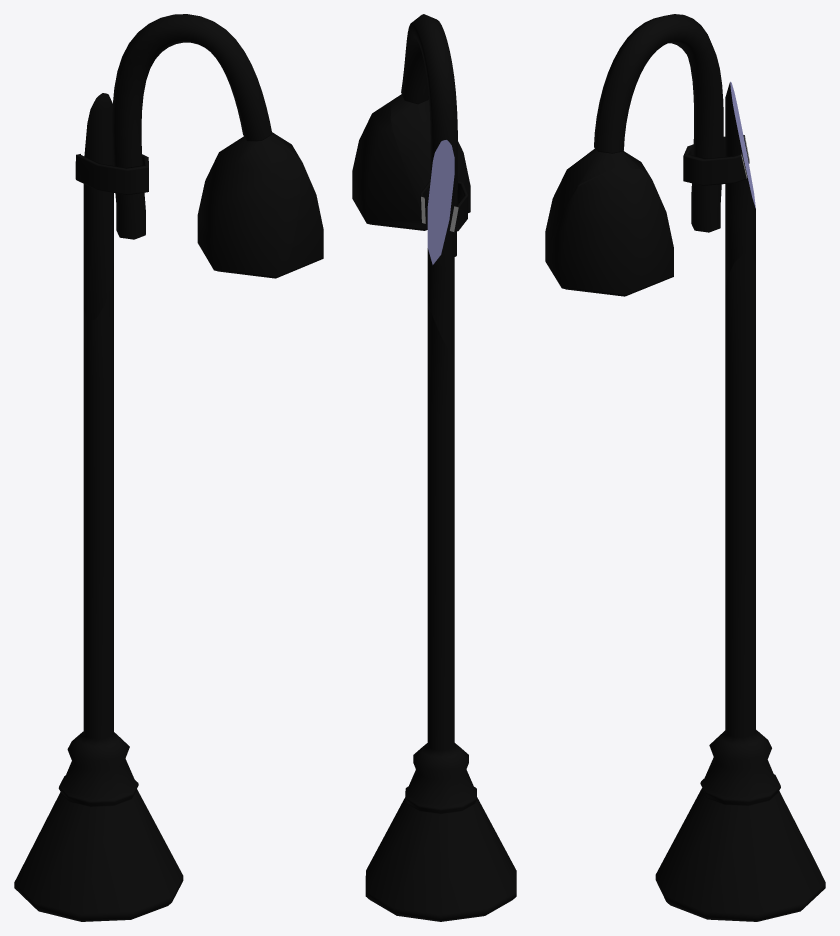
Rendered from LampadaireFract.fbx.
3 views of the same model, side by side, from view 1: azimuth 30°, elevation 25°; view 2: azimuth 150°, elevation 25°; view 3: azimuth 270°, elevation 25° (orthographic). The views are drawn at different scales.
Parts seen in each view (by area): view 1: pCylinder64, pCylinder65, pCylinder66; view 2: pCylinder65, pCylinder64, pCylinder66; view 3: pCylinder65, pCylinder66, pCylinder64.
Boxes of the visible parts, bbox=[...] form: pCylinder64: bbox=[75, 14, 300, 320]; pCylinder65: bbox=[14, 461, 183, 921]; pCylinder66: bbox=[83, 135, 323, 467]; pCylinder65: bbox=[365, 492, 516, 921]; pCylinder64: bbox=[390, 14, 470, 356]; pCylinder66: bbox=[352, 101, 454, 496]; pCylinder65: bbox=[655, 457, 825, 921]; pCylinder66: bbox=[547, 167, 755, 464]; pCylinder64: bbox=[545, 14, 755, 292].
Size of the model in its own units: 30.72 by 117 by 33.05.
